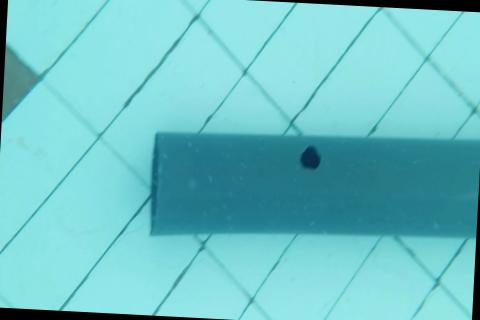kebocoran: (297, 143, 324, 170)
